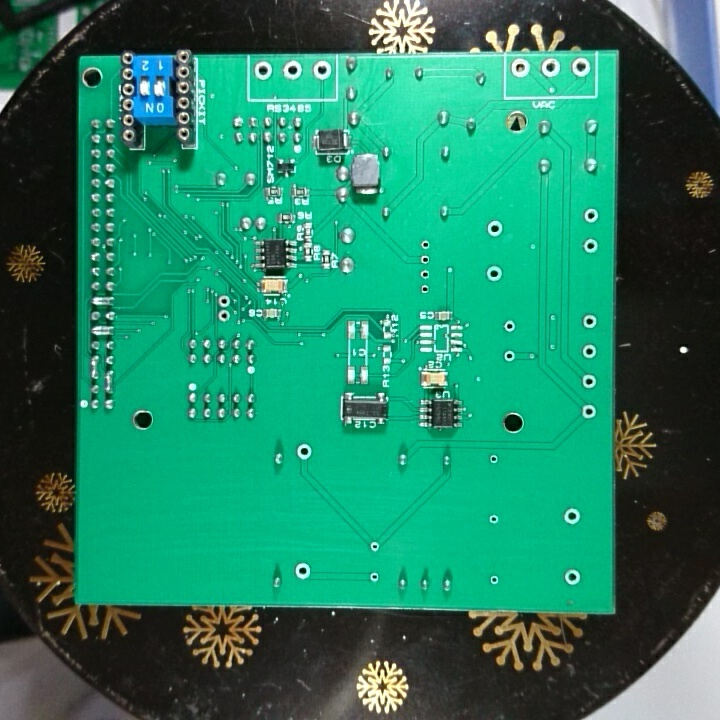F: (538, 54, 563, 80), (508, 55, 532, 80), (281, 58, 304, 83), (569, 55, 591, 79), (253, 60, 275, 83), (311, 59, 332, 83), (484, 218, 506, 240), (293, 441, 314, 462), (562, 505, 582, 527), (562, 566, 582, 588), (579, 370, 599, 392), (293, 560, 313, 581), (484, 263, 504, 284), (580, 340, 600, 360), (579, 312, 599, 332), (579, 401, 598, 422), (581, 236, 600, 255), (582, 207, 601, 226), (501, 317, 519, 335), (501, 348, 519, 364), (417, 266, 434, 282), (417, 252, 434, 268), (418, 235, 434, 252), (216, 307, 232, 324), (216, 292, 232, 309), (485, 572, 501, 588), (367, 538, 382, 555), (417, 282, 433, 297), (367, 569, 381, 586), (486, 450, 500, 467), (487, 511, 501, 527)
P: (85, 352, 102, 383), (101, 366, 117, 398), (88, 323, 119, 339), (88, 293, 117, 308)
